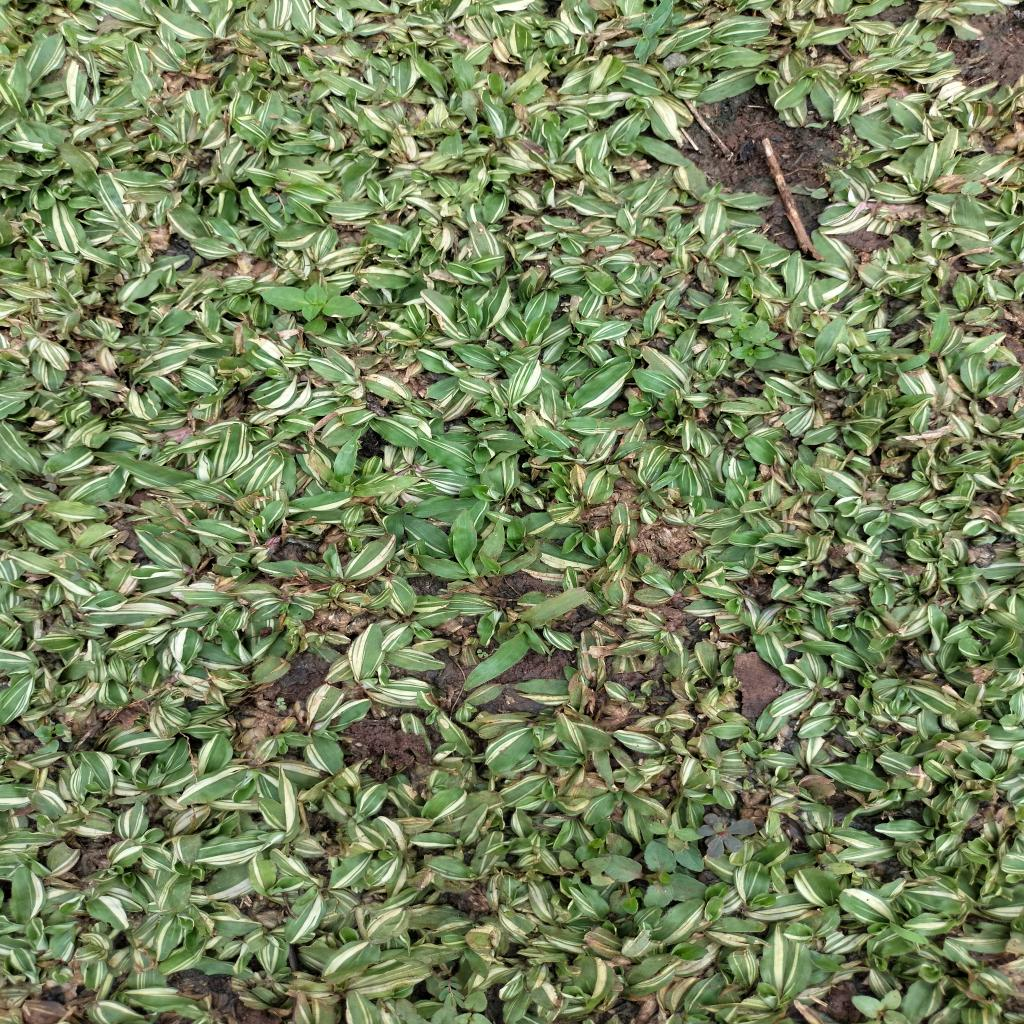buah daun: (697, 812, 758, 859), (437, 962, 467, 1009), (263, 189, 298, 223)
rambat atas: (894, 304, 950, 375), (635, 0, 674, 69)
rambat bawah: (458, 586, 592, 691), (308, 422, 424, 498), (406, 508, 506, 596)
ungu tunggang: (559, 819, 710, 917)
